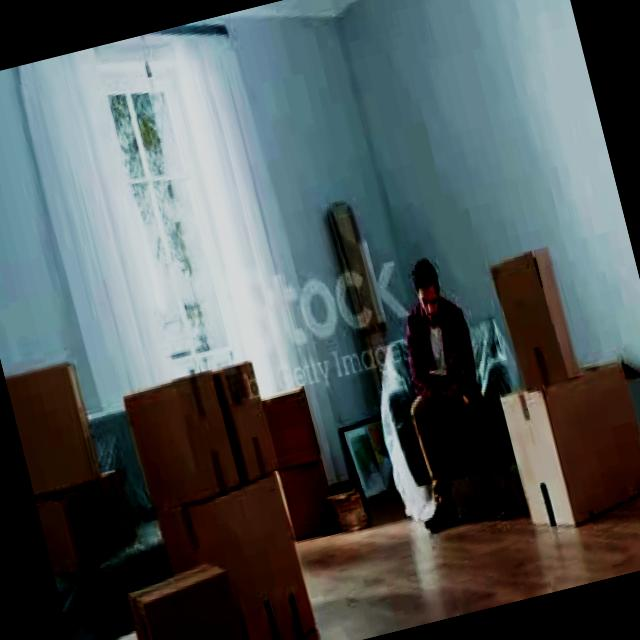Box: (496, 358, 640, 522), (203, 484, 324, 640), (121, 374, 238, 509), (490, 258, 578, 386), (8, 370, 97, 484), (129, 565, 250, 640), (39, 480, 137, 564), (215, 364, 274, 474)
